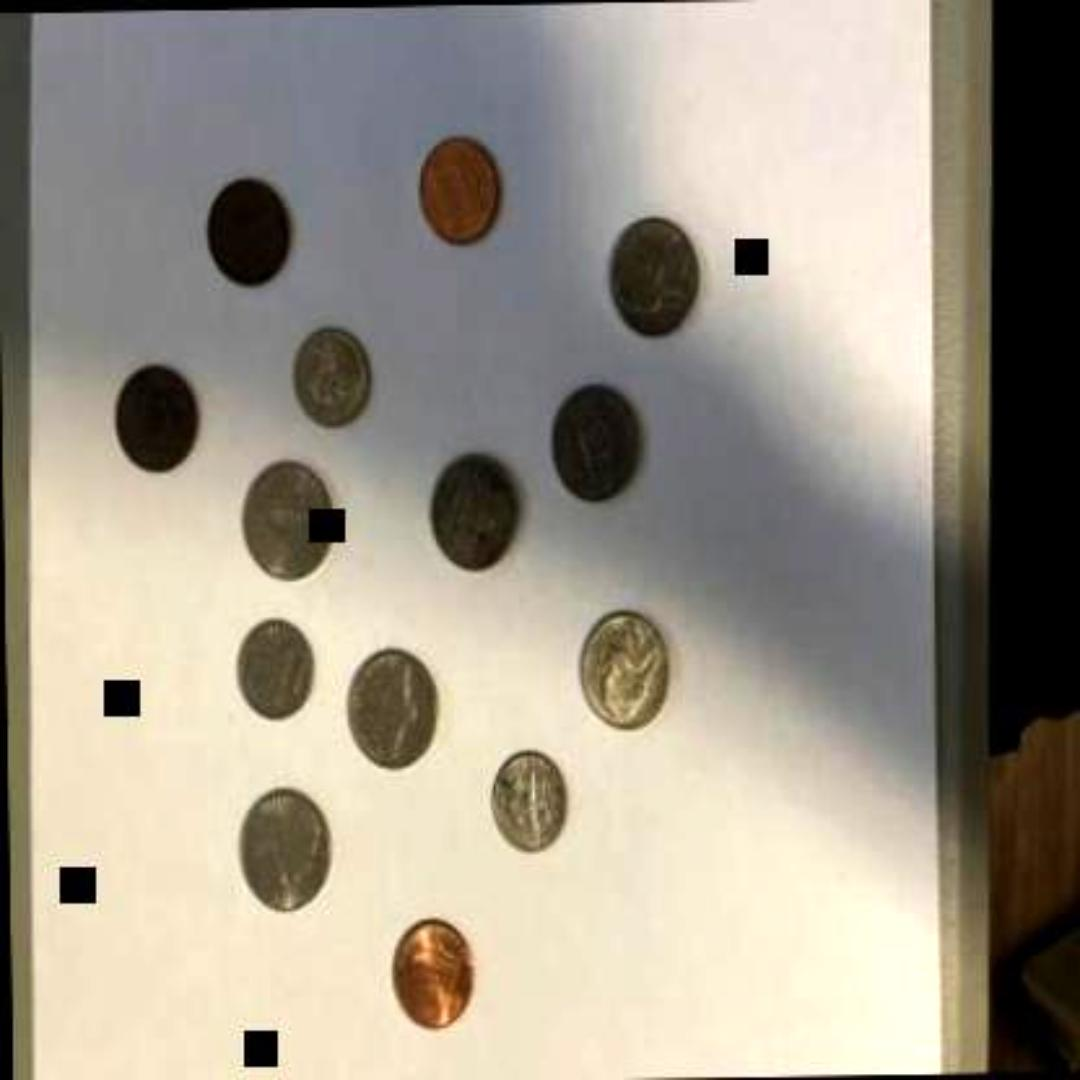Dime: (287, 322, 377, 433), (228, 609, 312, 723), (484, 747, 572, 853)
Nickel: (540, 374, 654, 500), (238, 446, 336, 581), (345, 648, 446, 772), (606, 209, 702, 339), (579, 606, 677, 733), (423, 446, 519, 572), (239, 786, 333, 914)
Penny: (106, 348, 196, 474), (202, 166, 294, 288), (414, 134, 506, 252), (383, 912, 473, 1032)
